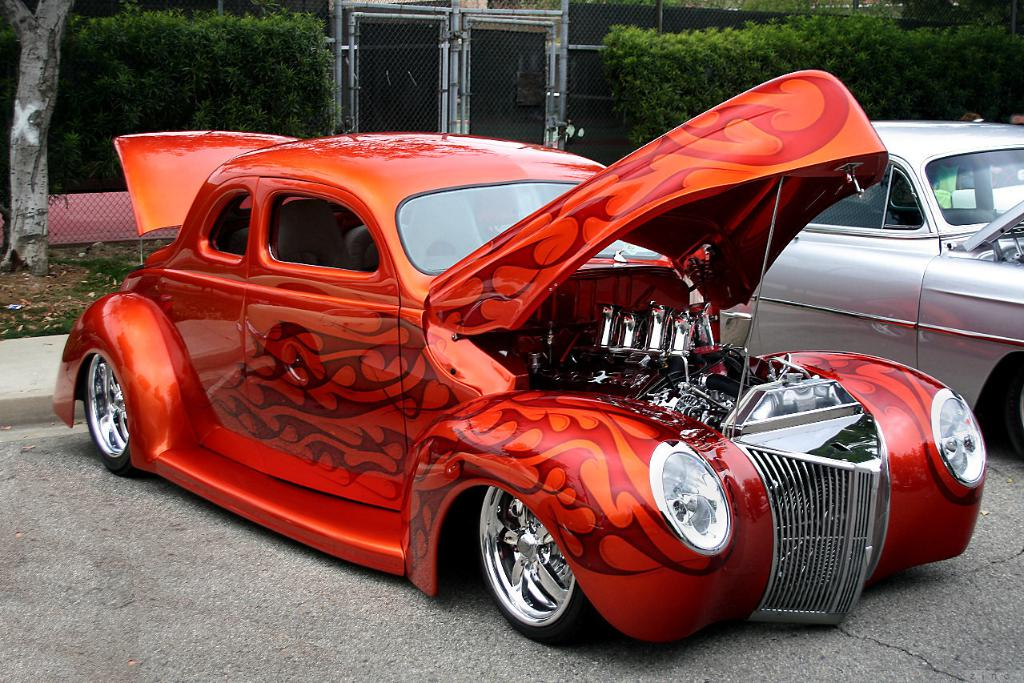Car: (72, 102, 992, 642), (722, 115, 1023, 454)
